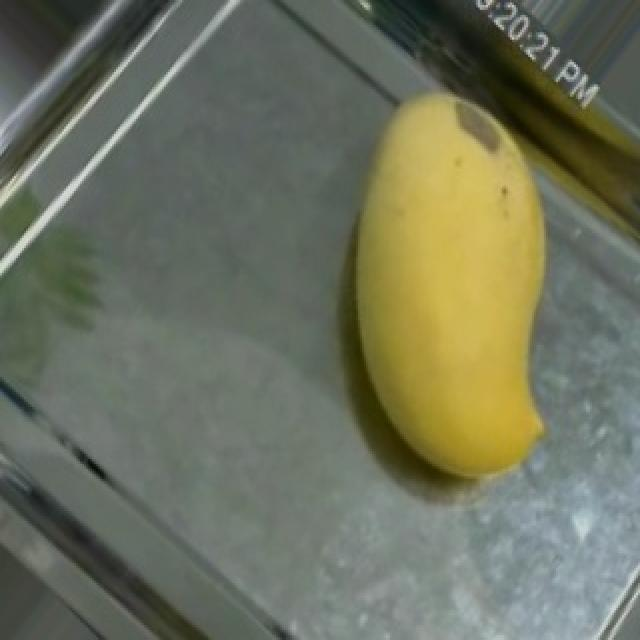fruit: (292, 42, 630, 491)
